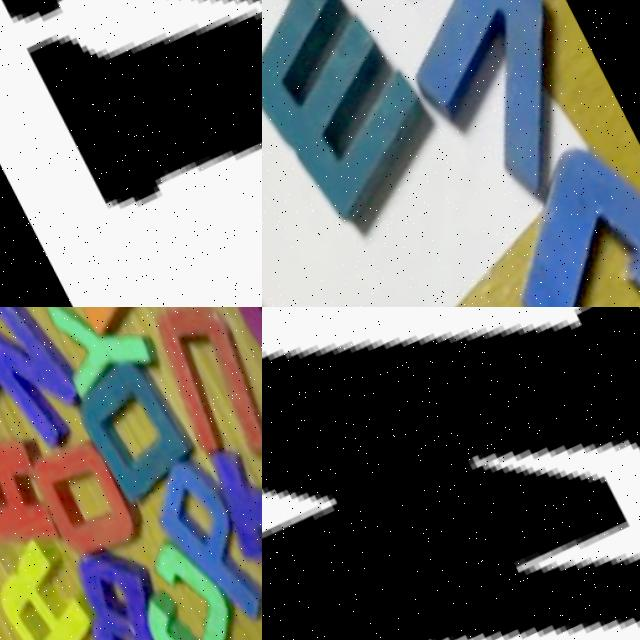A: (0, 417, 69, 568)
B: (43, 533, 191, 640)
C: (95, 523, 254, 640)
D: (58, 349, 202, 520)
I: (0, 307, 152, 347)
J: (462, 141, 640, 307)
M: (262, 307, 640, 640), (262, 0, 443, 233)
N: (0, 307, 104, 472)
O: (6, 423, 147, 577)
P: (120, 442, 262, 640)
R: (0, 523, 101, 640)
T: (189, 421, 262, 572)
U: (121, 307, 262, 489)
V: (0, 0, 262, 292), (368, 0, 632, 214)
Y: (18, 307, 169, 417)
